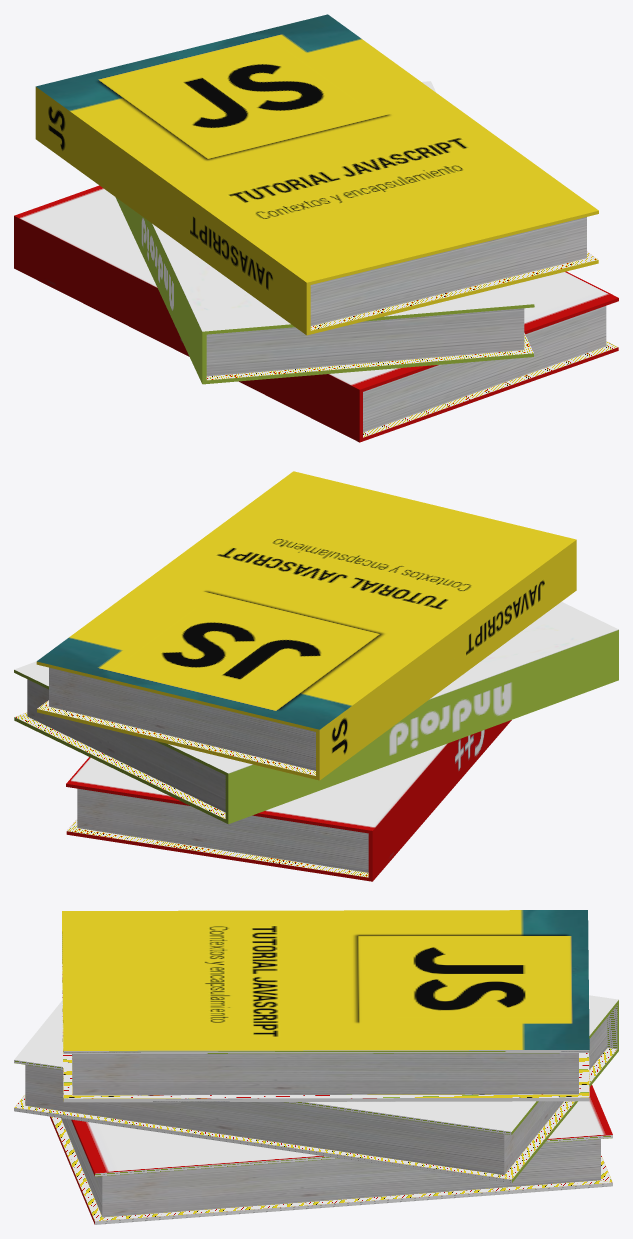
File: books 3.FBX
3 views of the same model, one above another, from view 1: azimuth 30°, elevation 25°; view 2: azimuth 150°, elevation 25°; view 3: azimuth 270°, elevation 25° (orthographic). The views are drawn at different scales.
Visible parts, largest first — view 1: Book 3, Book 1, Book 2; view 2: Book 3, Book 2, Book 1; view 3: Book 3, Book 1, Book 2.
Boxes of the visible parts, x1,y1,x2,y2 form: Book 3: (35,14,598,335); Book 1: (14,185,618,442); Book 2: (115,81,534,384); Book 3: (36,471,576,780); Book 2: (14,601,618,824); Book 1: (66,720,511,881); Book 3: (62,910,589,1102); Book 1: (50,1085,612,1224); Book 2: (14,995,618,1183).
Bounding box in the file's own units: 8.74 × 10.93 × 3.13.
1 material, 1 textured.
